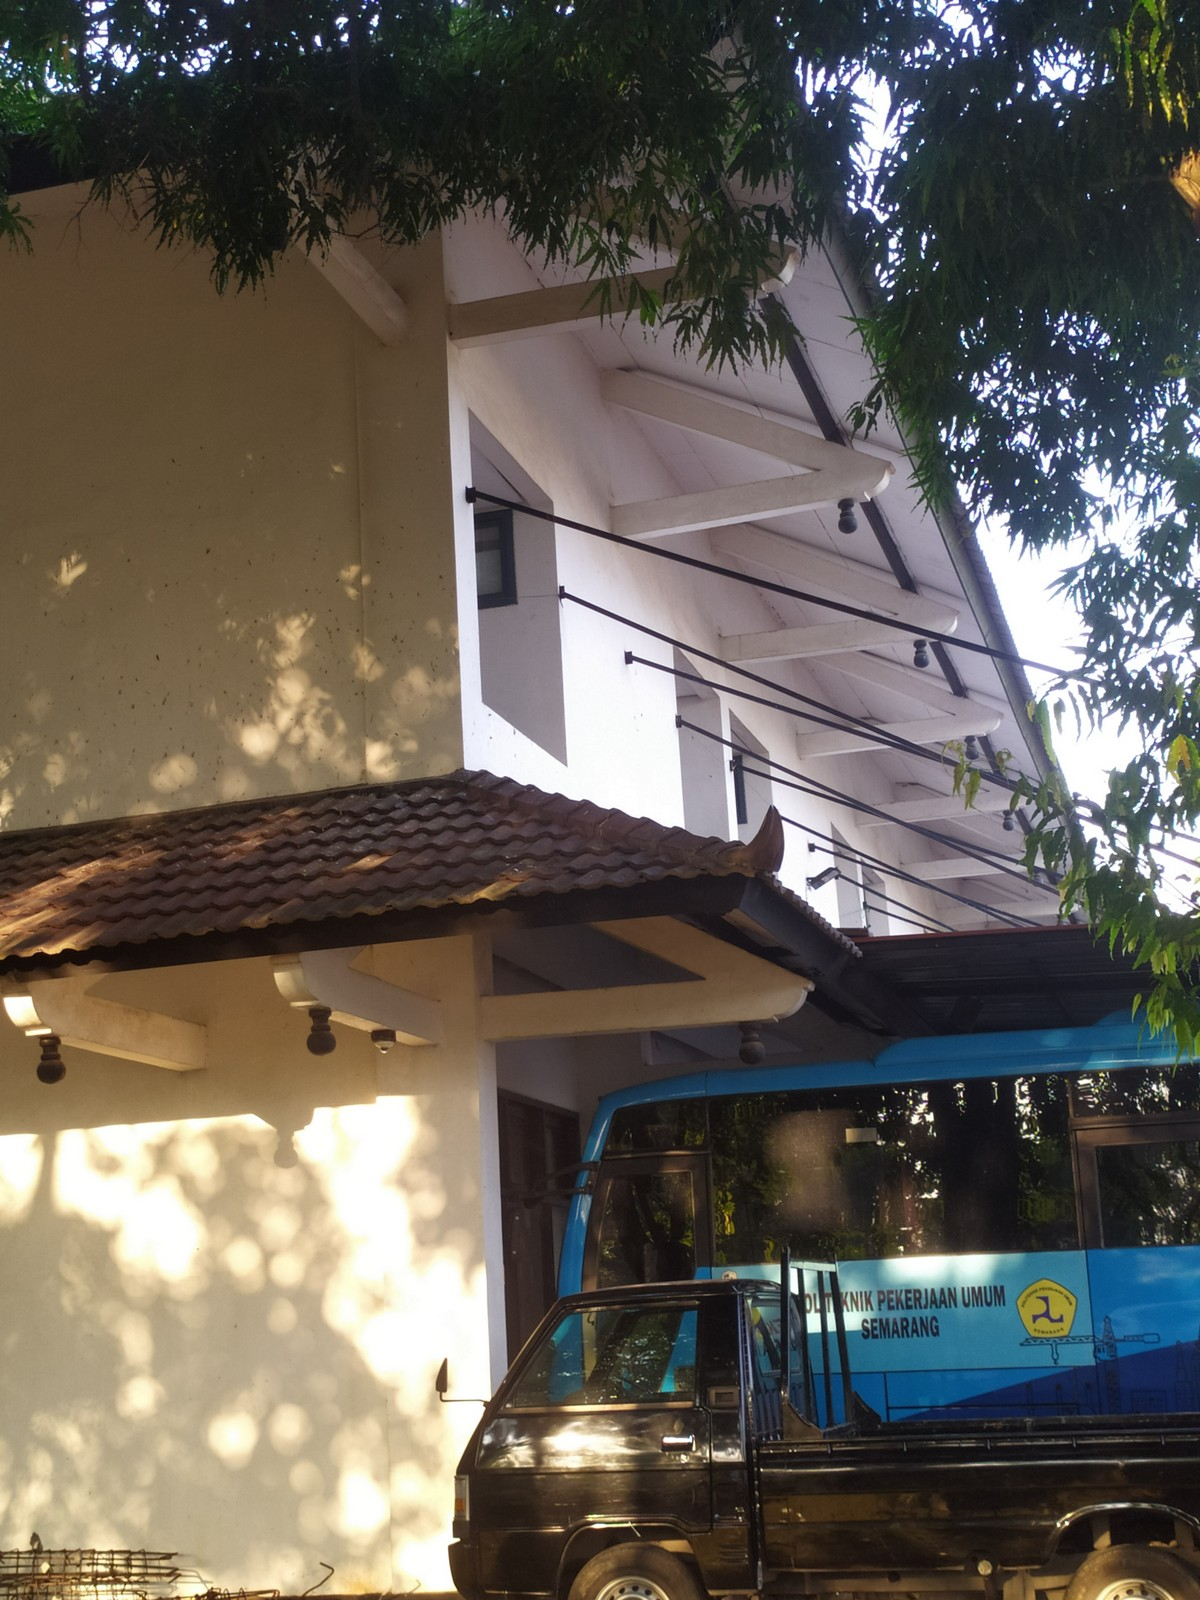concrete beam: (437, 273, 698, 350), (476, 981, 727, 1044), (604, 483, 832, 546), (711, 614, 910, 669), (787, 712, 967, 765)
